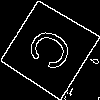C: (24, 24, 83, 80)
